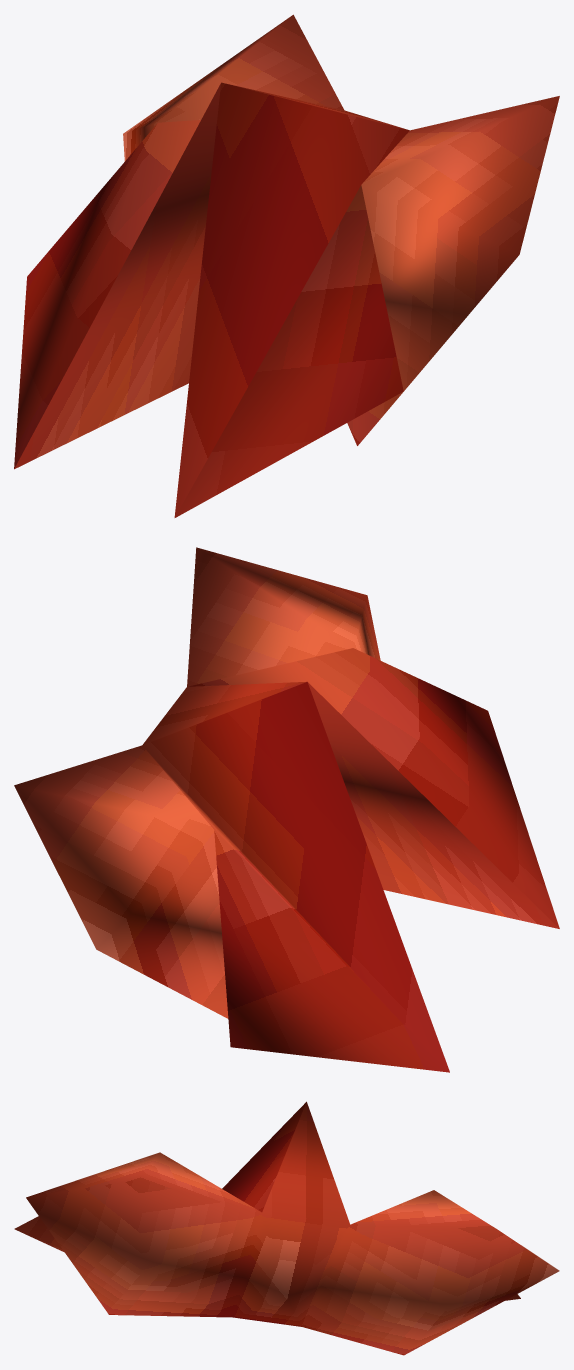
The model's file is cap_ribbon_red.dae.
The picture shows the model from 3 angles, top to bottom: view 1: azimuth 30°, elevation 25°; view 2: azimuth 150°, elevation 25°; view 3: azimuth 270°, elevation 25°; orthographic projection. The views are drawn at different scales.
Parts seen in each view (by area): view 1: cap_ribbon_red; view 2: cap_ribbon_red; view 3: cap_ribbon_red.
Part boxes in pixels (x1=…): cap_ribbon_red: x1=14, y1=14, x2=559, y2=517; cap_ribbon_red: x1=14, y1=547, x2=559, y2=1072; cap_ribbon_red: x1=14, y1=1101, x2=559, y2=1355.
Size of the model in its own units: 5.73 by 4.96 by 8.54.
Materials: 1 (1 with a texture image).
